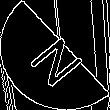N_NE: (21, 23, 89, 87)
